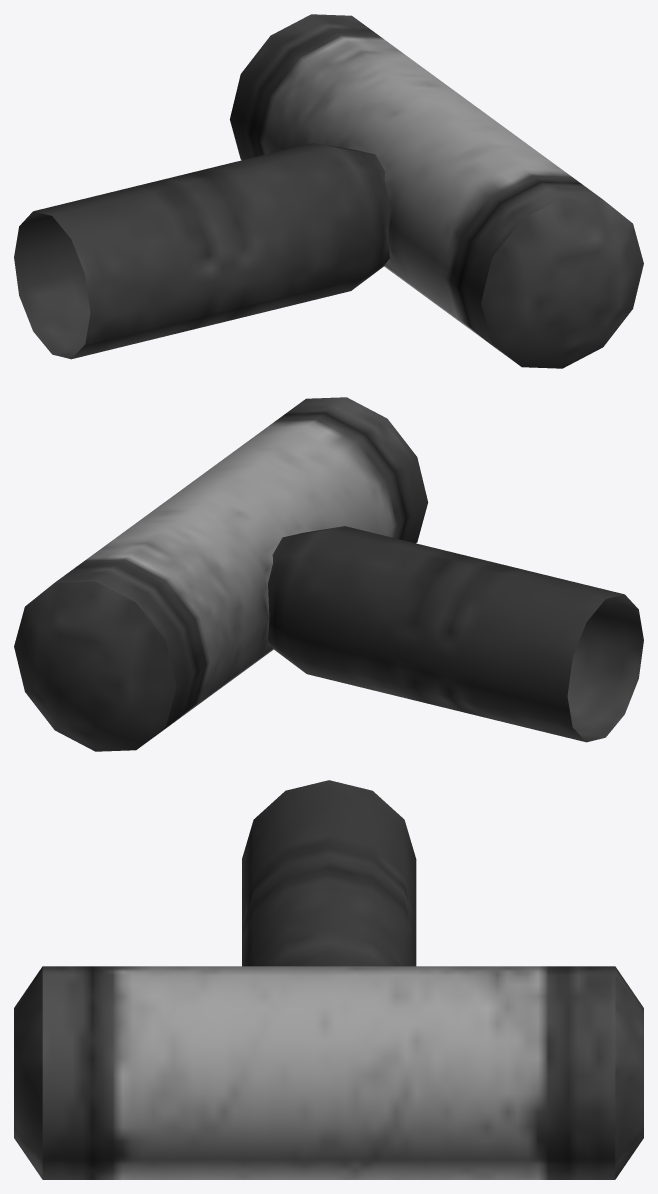
The model's file is generator_habitat_lever.DAE.
3 views of the same model, one above another, from view 1: azimuth 30°, elevation 25°; view 2: azimuth 150°, elevation 25°; view 3: azimuth 270°, elevation 25° (orthographic). The views are drawn at different scales.
Parts seen in each view (by area): view 1: generator_habitat_lever; view 2: generator_habitat_lever; view 3: generator_habitat_lever.
Part boxes in pixels (left/top/right/bottom): generator_habitat_lever: left=14, top=14, right=643, bottom=368; generator_habitat_lever: left=14, top=397, right=643, bottom=751; generator_habitat_lever: left=14, top=780, right=643, bottom=1179.
Bounding box in the file's own units: 18.11 × 18.6 × 6.33.
